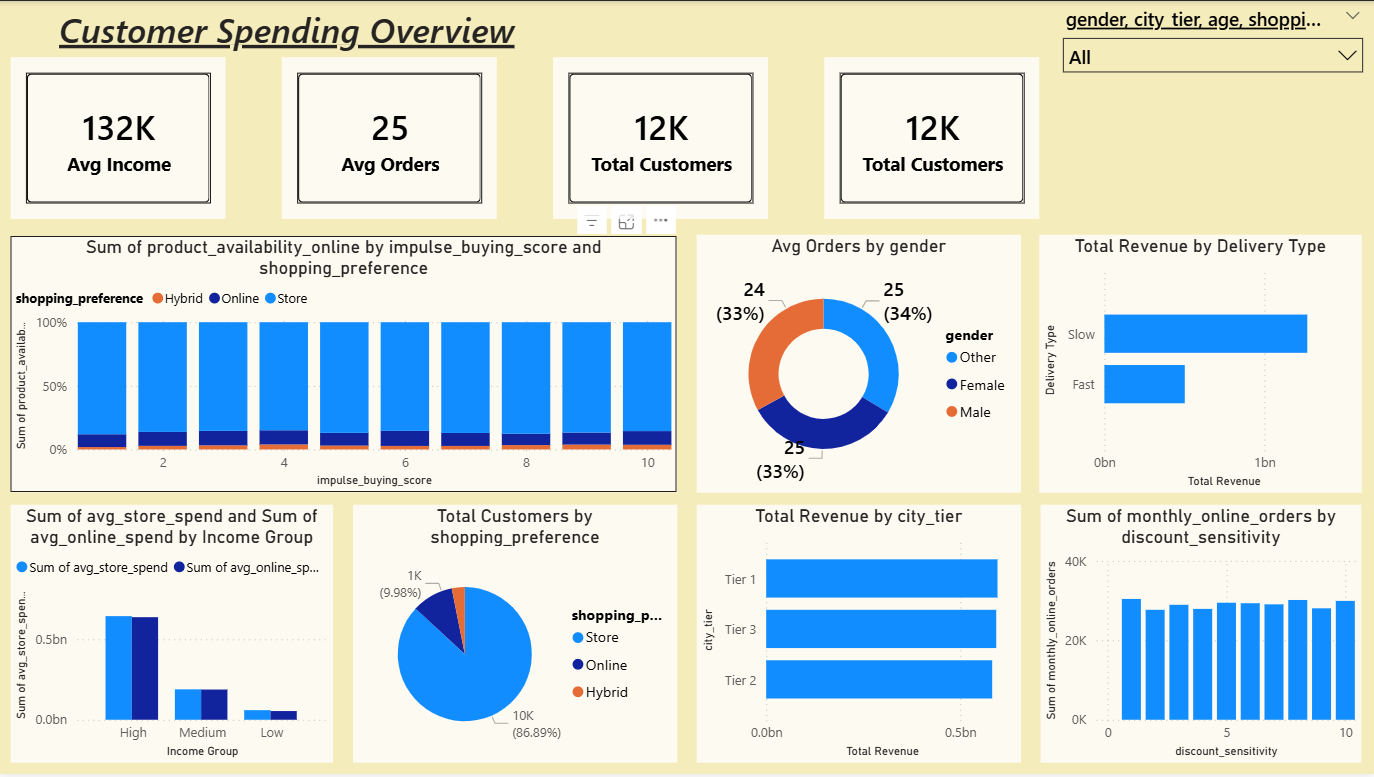

The dashboard page shown, as its layout file describes it:
{"tool":"powerbi","page":{"name":"Page 1","canvas":[1280,720],"ordinal":0},"visuals":[{"type":"pieChart","fields":{"Category":["Consumer_Shopping_Trends_2026 (6).shopping_preference"],"Y":["Consumer_Shopping_Trends_2026 (6).Total Customers"]},"box":[330,468.6,301.4,240],"z":0},{"type":"clusteredColumnChart","fields":{"Y":["Sum(Consumer_Shopping_Trends_2026 (6).avg_store_spend)","Sum(Consumer_Shopping_Trends_2026 (6).avg_online_spend)"],"Category":["Consumer_Shopping_Trends_2026 (6).Income Group"]},"box":[11.4,468.6,300,240],"z":1000},{"type":"barChart","fields":{"Y":["Consumer_Shopping_Trends_2026 (6).Total Revenue"],"Category":["Consumer_Shopping_Trends_2026 (6).city_tier"]},"box":[650,468.6,301.4,240],"z":2000},{"type":"textbox","box":[36.2,0,465.2,62.7],"z":3000},{"type":"hundredPercentStackedColumnChart","fields":{"Series":["Consumer_Shopping_Trends_2026 (6).shopping_preference"],"Category":["Consumer_Shopping_Trends_2026 (6).impulse_buying_score"],"Y":["Sum(Consumer_Shopping_Trends_2026 (6).product_availability_online)"]},"box":[11.4,218.6,620,238.6],"z":4000},{"type":"columnChart","fields":{"Y":["Sum(Consumer_Shopping_Trends_2026 (6).monthly_online_orders)"],"Category":["Consumer_Shopping_Trends_2026 (6).discount_sensitivity"]},"box":[970,468.6,298.6,240],"z":5000},{"type":"barChart","fields":{"Category":["Consumer_Shopping_Trends_2026 (6).Delivery Type"],"Y":["Consumer_Shopping_Trends_2026 (6).Total Revenue"]},"box":[968.6,217.1,300,240],"z":6000},{"type":"slicer","fields":{"Values":["Consumer_Shopping_Trends_2026 (6).gender","Consumer_Shopping_Trends_2026 (6).city_tier","Consumer_Shopping_Trends_2026 (6).age","Consumer_Shopping_Trends_2026 (6).shopping_preference"]},"box":[980.5,0,299.5,76.6],"z":7000},{"type":"donutChart","fields":{"Category":["Consumer_Shopping_Trends_2026 (6).gender"],"Y":["Consumer_Shopping_Trends_2026 (6).Avg Orders"]},"box":[650,217.1,301.4,240],"z":7001},{"type":"cardVisual","fields":{"Data":["Consumer_Shopping_Trends_2026 (6).Avg Income"]},"box":[11.4,52.9,200,150],"z":7002},{"type":"cardVisual","fields":{"Data":["Consumer_Shopping_Trends_2026 (6).Avg Orders"]},"box":[263.8,52.9,200,150],"z":7004},{"type":"cardVisual","fields":{"Data":["Consumer_Shopping_Trends_2026 (6).Total Customers"]},"box":[516.2,52.9,200,150],"z":7005},{"type":"cardVisual","fields":{"Data":["Consumer_Shopping_Trends_2026 (6).Total Customers"]},"box":[768.6,52.9,200,150],"z":7006}]}

Visuals, with their boxes in screenshot pixels (x1, y1, x2, y2), scaled from the page's 1280x720 canvas onto the 1374x777 screenshot:
pieChart - Consumer_Shopping_Trends_2026 (6).shopping_preference x Consumer_Shopping_Trends_2026 (6).Total Customers: (left=354, top=506, right=678, bottom=765)
clusteredColumnChart - Sum(Consumer_Shopping_Trends_2026 (6).avg_store_spend) x Sum(Consumer_Shopping_Trends_2026 (6).avg_online_spend): (left=12, top=506, right=334, bottom=765)
barChart - Consumer_Shopping_Trends_2026 (6).Total Revenue x Consumer_Shopping_Trends_2026 (6).city_tier: (left=698, top=506, right=1021, bottom=765)
textbox: (left=39, top=0, right=538, bottom=68)
hundredPercentStackedColumnChart - Consumer_Shopping_Trends_2026 (6).shopping_preference x Consumer_Shopping_Trends_2026 (6).impulse_buying_score: (left=12, top=236, right=678, bottom=493)
columnChart - Sum(Consumer_Shopping_Trends_2026 (6).monthly_online_orders) x Consumer_Shopping_Trends_2026 (6).discount_sensitivity: (left=1041, top=506, right=1362, bottom=765)
barChart - Consumer_Shopping_Trends_2026 (6).Delivery Type x Consumer_Shopping_Trends_2026 (6).Total Revenue: (left=1040, top=234, right=1362, bottom=493)
slicer - Consumer_Shopping_Trends_2026 (6).gender x Consumer_Shopping_Trends_2026 (6).city_tier: (left=1053, top=0, right=1373, bottom=83)
donutChart - Consumer_Shopping_Trends_2026 (6).gender x Consumer_Shopping_Trends_2026 (6).Avg Orders: (left=698, top=234, right=1021, bottom=493)
cardVisual - Consumer_Shopping_Trends_2026 (6).Avg Income: (left=12, top=57, right=227, bottom=219)
cardVisual - Consumer_Shopping_Trends_2026 (6).Avg Orders: (left=283, top=57, right=498, bottom=219)
cardVisual - Consumer_Shopping_Trends_2026 (6).Total Customers: (left=554, top=57, right=769, bottom=219)
cardVisual - Consumer_Shopping_Trends_2026 (6).Total Customers: (left=825, top=57, right=1040, bottom=219)
